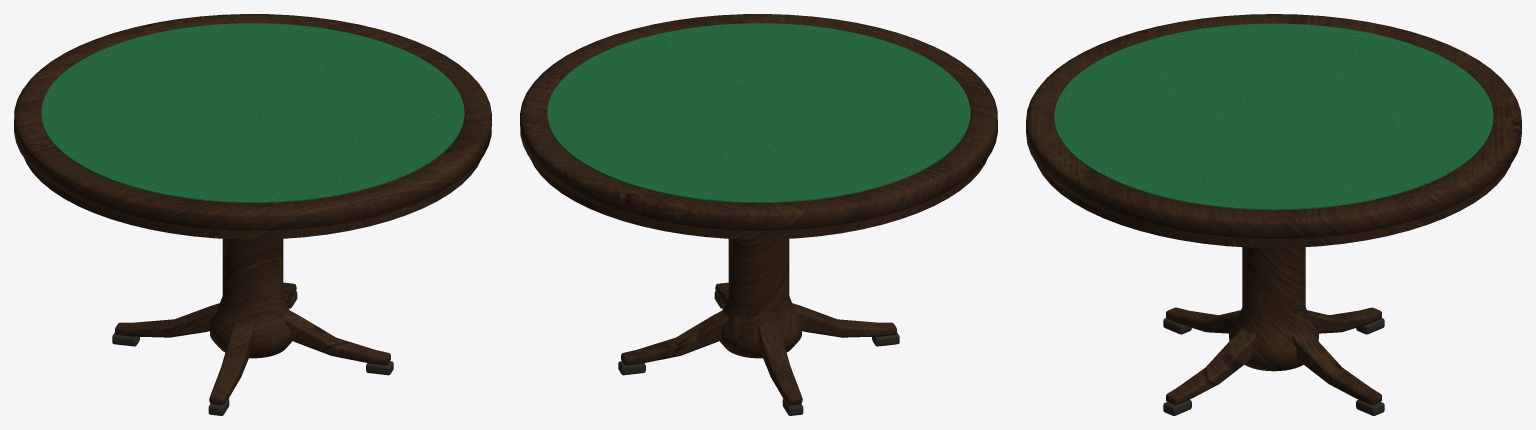
Rendered from mesa_carteado_realista.glb.
The picture shows the model from 3 angles, left to right: view 1: azimuth 30°, elevation 25°; view 2: azimuth 150°, elevation 25°; view 3: azimuth 270°, elevation 25°; orthographic projection. The views are drawn at different scales.
Visible parts, largest first — view 1: Mesa_Carteado_Feltro, Borda de madeira macica, Pe central de mesa de carteado, Estrutura sob o tampo, Apoio baixo da base.003, Apoio baixo da base.002, Apoio baixo da base.001; view 2: Mesa_Carteado_Feltro, Borda de madeira macica, Pe central de mesa de carteado, Estrutura sob o tampo, Apoio baixo da base, Apoio baixo da base.001, Apoio baixo da base.002; view 3: Mesa_Carteado_Feltro, Borda de madeira macica, Pe central de mesa de carteado, Estrutura sob o tampo, Apoio baixo da base, Apoio baixo da base.003, Apoio baixo da base.001, Apoio baixo da base.002.
Boxes of the visible parts, x1,y1,x2,y2 form: Mesa_Carteado_Feltro: (41,23,464,202); Borda de madeira macica: (14,14,491,231); Pe central de mesa de carteado: (209,238,292,358); Estrutura sob o tampo: (24,158,481,239); Apoio baixo da base.003: (283,309,390,365); Apoio baixo da base.002: (209,322,253,405); Apoio baixo da base.001: (115,303,219,337); Mesa_Carteado_Feltro: (547,23,970,202); Borda de madeira macica: (520,14,997,231); Pe central de mesa de carteado: (719,238,802,358); Estrutura sob o tampo: (530,158,987,239); Apoio baixo da base: (621,310,728,365); Apoio baixo da base.001: (758,322,802,405); Apoio baixo da base.002: (792,303,896,337); Mesa_Carteado_Feltro: (1054,23,1493,210); Borda de madeira macica: (1026,14,1521,239); Pe central de mesa de carteado: (1229,247,1318,371); Estrutura sob o tampo: (1037,165,1510,248); Apoio baixo da base: (1291,328,1381,404); Apoio baixo da base.003: (1166,328,1256,404); Apoio baixo da base.001: (1307,307,1381,333); Apoio baixo da base.002: (1166,307,1240,333).
Bounding box in the file's own units: 1.4 × 0.791 × 1.4.
Materials: 3 (2 with a texture image).
